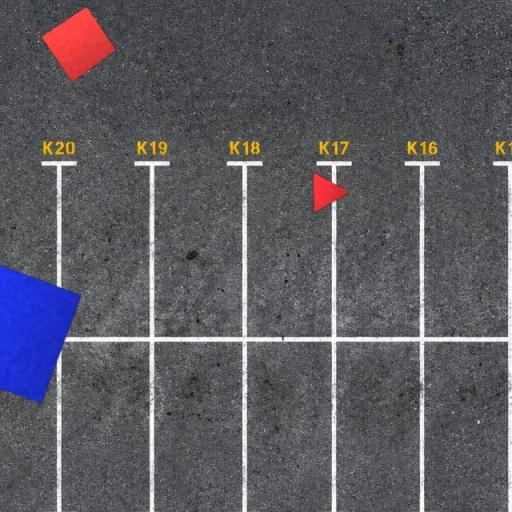BLUE_SQUARE: (0, 253, 82, 405)
RED_SQUARE: (40, 6, 117, 84)
